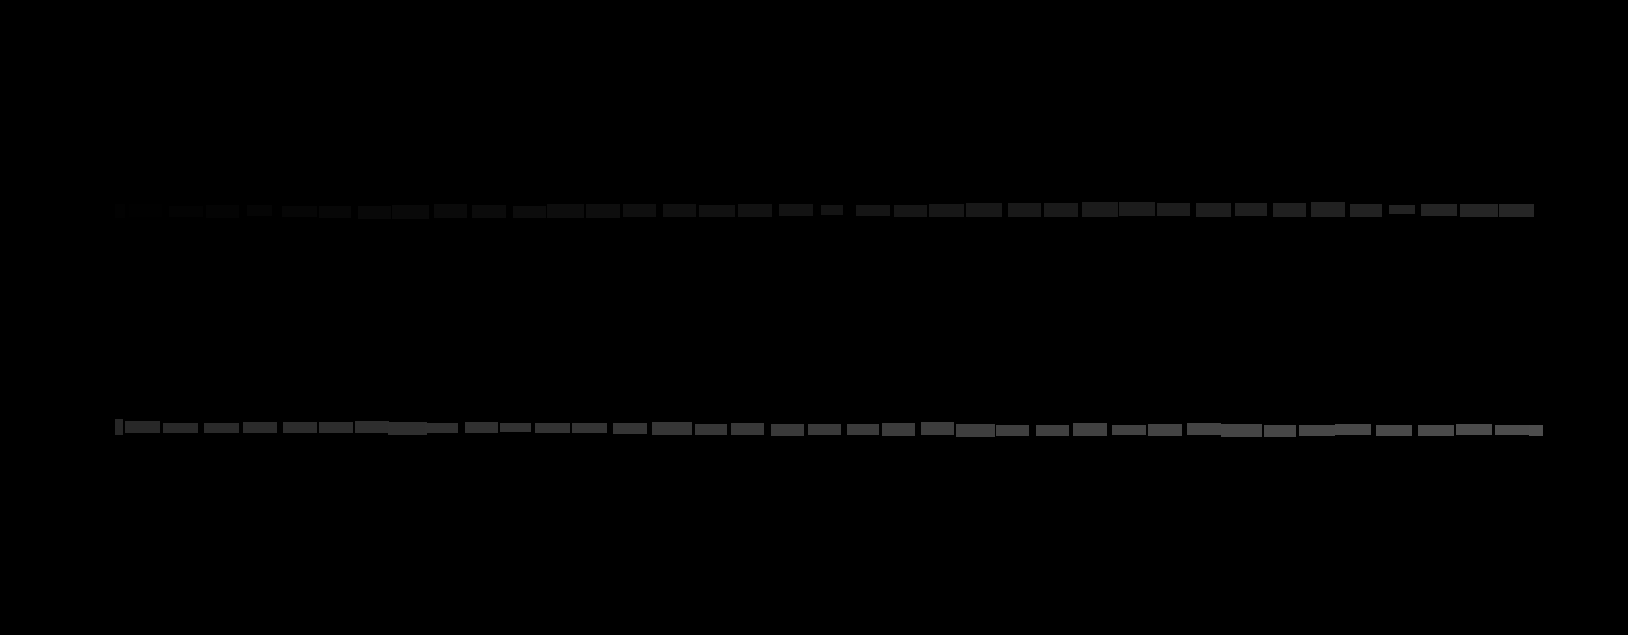light: (1082, 202, 1118, 217), (1221, 424, 1261, 437), (652, 422, 691, 435), (392, 205, 429, 219), (547, 204, 584, 218), (966, 203, 1002, 217), (1311, 202, 1345, 217), (1460, 204, 1498, 217), (388, 422, 427, 435), (956, 424, 995, 437), (1119, 202, 1155, 216), (1196, 203, 1231, 217), (586, 204, 620, 218), (434, 204, 467, 218), (1008, 203, 1041, 217), (1044, 203, 1078, 217), (1273, 203, 1306, 217), (738, 204, 772, 217), (929, 204, 964, 217), (1499, 204, 1534, 217), (1073, 423, 1107, 436), (699, 205, 735, 217), (129, 204, 162, 217), (206, 205, 239, 218), (358, 206, 391, 219), (472, 205, 506, 218), (623, 204, 656, 217), (1157, 203, 1190, 216), (881, 423, 915, 436), (921, 422, 954, 435), (1421, 204, 1457, 216), (125, 421, 160, 433), (663, 204, 696, 217), (1234, 203, 1267, 216), (1350, 204, 1382, 217), (779, 204, 813, 216), (355, 421, 389, 433), (1187, 423, 1221, 435), (513, 206, 546, 218), (894, 205, 927, 217), (731, 423, 764, 435), (1148, 424, 1182, 436), (1299, 425, 1335, 436), (1376, 425, 1412, 436), (1456, 424, 1492, 435), (319, 206, 351, 218), (771, 424, 804, 436), (1264, 425, 1296, 437), (1335, 424, 1371, 435), (1418, 425, 1454, 436), (169, 206, 203, 217), (282, 206, 317, 217), (856, 205, 890, 216), (243, 422, 277, 433), (319, 422, 353, 433), (613, 423, 647, 434), (283, 422, 317, 433), (465, 422, 498, 433), (808, 424, 841, 435), (996, 425, 1029, 436), (1036, 425, 1069, 436), (695, 424, 727, 435), (847, 424, 879, 435), (163, 423, 198, 433), (203, 423, 239, 433), (535, 423, 570, 433), (572, 423, 607, 433), (1112, 425, 1146, 435), (1495, 425, 1529, 435), (425, 423, 458, 433), (247, 205, 272, 216), (500, 423, 531, 432), (1389, 205, 1415, 214), (821, 205, 843, 215), (1529, 425, 1543, 436), (115, 204, 125, 218), (115, 419, 123, 435)
